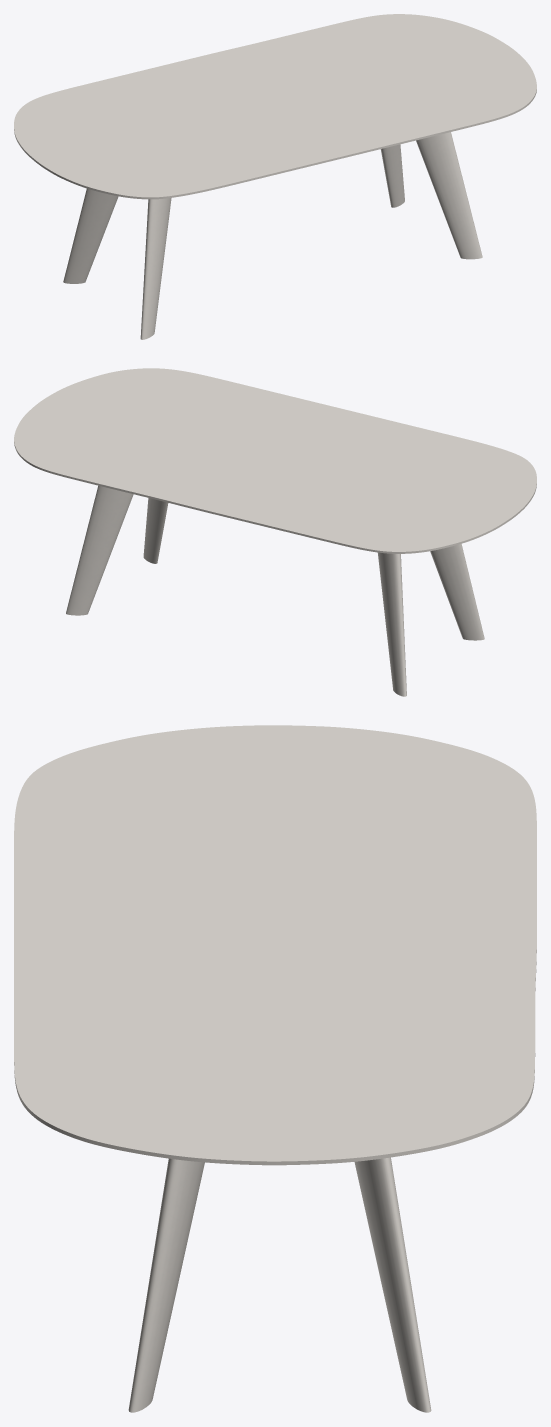
Rendered from pearlwhite_oval_facet_ferdinantwalnut.glb.
3 renders of one model, top to bottom at view 1: azimuth 30°, elevation 25°; view 2: azimuth 150°, elevation 25°; view 3: azimuth 270°, elevation 25°, orthographic. The views are drawn at different scales.
Parts seen in each view (by area): view 1: facet_oval, ferdinandwalnut; view 2: facet_oval, ferdinandwalnut; view 3: facet_oval, ferdinandwalnut.
Part boxes in pixels (x1,y1,x2,y2): facet_oval: (14,14,536,199); ferdinandwalnut: (63,132,482,339); facet_oval: (14,368,536,553); ferdinandwalnut: (66,485,484,696); facet_oval: (14,725,536,1165); ferdinandwalnut: (128,1157,431,1412).
Size of the model in its own units: 7.5 by 2.51 by 3.8.
Materials: 1 (1 with a texture image).
